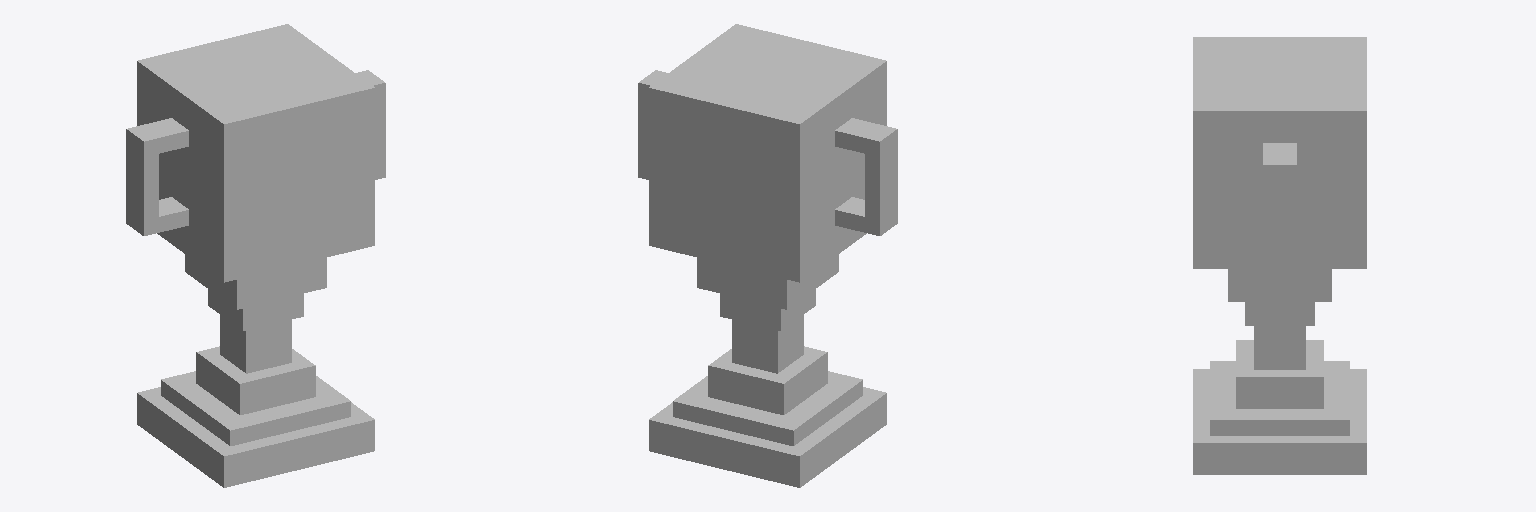
File: trophy.obj
3 views of the same model, side by side, from view 1: azimuth 30°, elevation 25°; view 2: azimuth 150°, elevation 25°; view 3: azimuth 270°, elevation 25° (orthographic).
Visible parts, largest first — view 1: trophy_cup2, base_lower, handle, base_upper, trophy_base, trophy_cup1, trophy_column, trophy_cup0; view 2: trophy_cup2, base_lower, handle, base_upper, trophy_base, trophy_cup1, trophy_column, trophy_cup0; view 3: trophy_cup2, base_lower, base_upper, trophy_base, handle, trophy_cup1, trophy_column, trophy_cup0.
Part boxes in pixels (bbox=[...]): trophy_cup2: bbox=[137, 24, 374, 282]; base_lower: bbox=[137, 387, 374, 487]; handle: bbox=[126, 70, 385, 235]; base_upper: bbox=[161, 371, 350, 445]; trophy_base: bbox=[196, 346, 315, 414]; trophy_cup1: bbox=[185, 254, 326, 309]; trophy_column: bbox=[220, 315, 291, 373]; trophy_cup0: bbox=[208, 289, 303, 330]; trophy_cup2: bbox=[649, 24, 886, 282]; base_lower: bbox=[649, 387, 886, 487]; handle: bbox=[638, 70, 897, 235]; base_upper: bbox=[673, 371, 862, 445]; trophy_base: bbox=[708, 346, 827, 414]; trophy_cup1: bbox=[697, 254, 838, 309]; trophy_column: bbox=[732, 315, 803, 373]; trophy_cup0: bbox=[720, 289, 815, 330]; trophy_cup2: bbox=[1193, 37, 1366, 268]; base_lower: bbox=[1193, 369, 1366, 474]; base_upper: bbox=[1210, 361, 1349, 435]; trophy_base: bbox=[1236, 340, 1323, 408]; handle: bbox=[1263, 143, 1296, 259]; trophy_cup1: bbox=[1228, 269, 1331, 301]; trophy_column: bbox=[1254, 326, 1305, 369]; trophy_cup0: bbox=[1245, 302, 1314, 325].
Bounding box in the file's own units: 1 × 1.44 × 0.625.